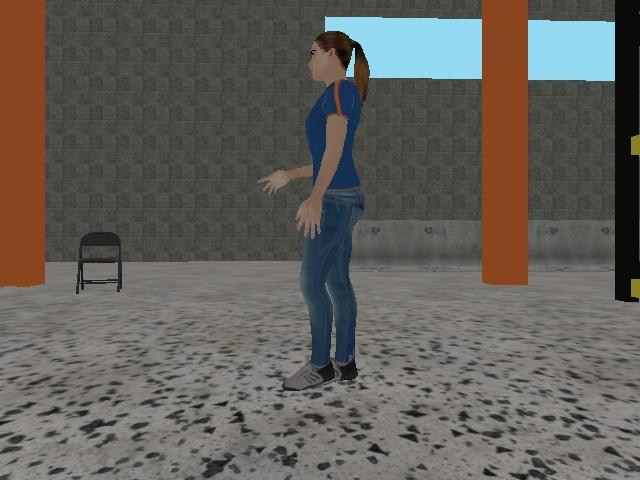chair: (74, 230, 125, 294)
person: (255, 29, 371, 392)
